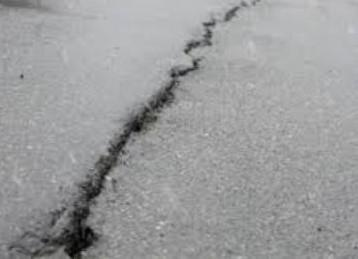alligator-crack: (6, 189, 130, 259), (72, 153, 126, 193), (119, 103, 180, 131), (213, 0, 278, 25), (197, 15, 228, 59), (146, 74, 185, 108), (108, 130, 139, 172), (165, 41, 198, 75)
pothole: (54, 216, 103, 259)
